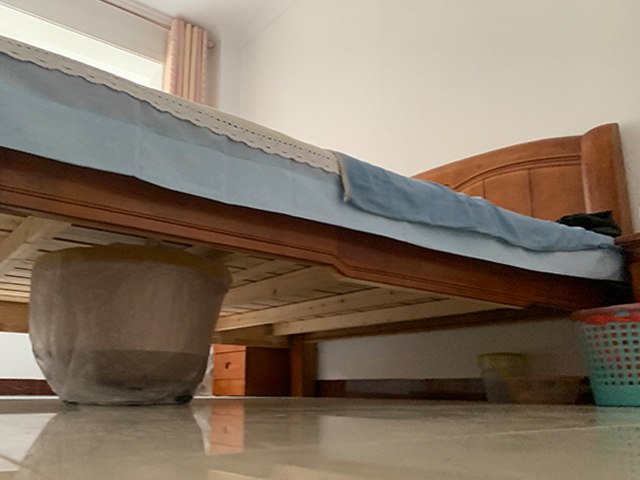bed: (1, 33, 634, 399)
cabinet: (212, 342, 293, 398)
trashcan: (569, 303, 640, 406)
